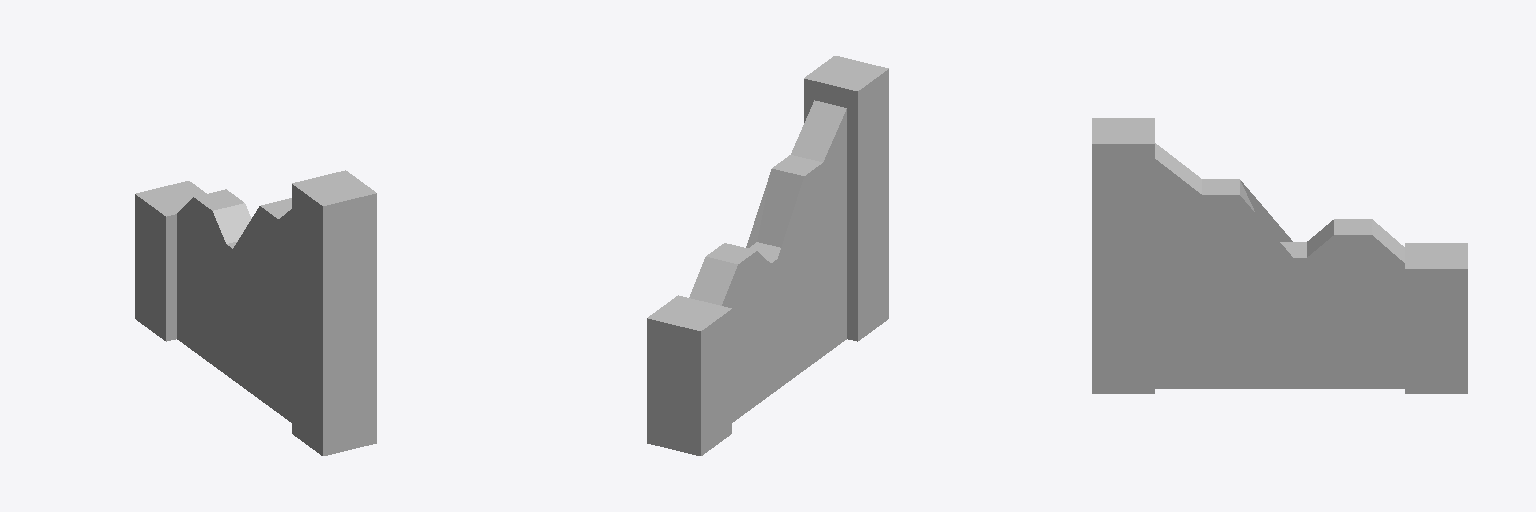
The model's file is Grey_Broken_Wall_01.obj.
3 renders of one model, left to right at view 1: azimuth 30°, elevation 25°; view 2: azimuth 150°, elevation 25°; view 3: azimuth 270°, elevation 25°, orthographic.
Parts seen in each view (by area): view 1: Mesh1 Grey_Broken_Wall Model; view 2: Mesh1 Grey_Broken_Wall Model; view 3: Mesh1 Grey_Broken_Wall Model.
Part boxes in pixels (x1,y1,x2,y2): Mesh1 Grey_Broken_Wall Model: (135,170,376,455); Mesh1 Grey_Broken_Wall Model: (647,56,888,455); Mesh1 Grey_Broken_Wall Model: (1092,118,1467,393).
Size of the model in its own units: 0.5 by 2.2 by 3.